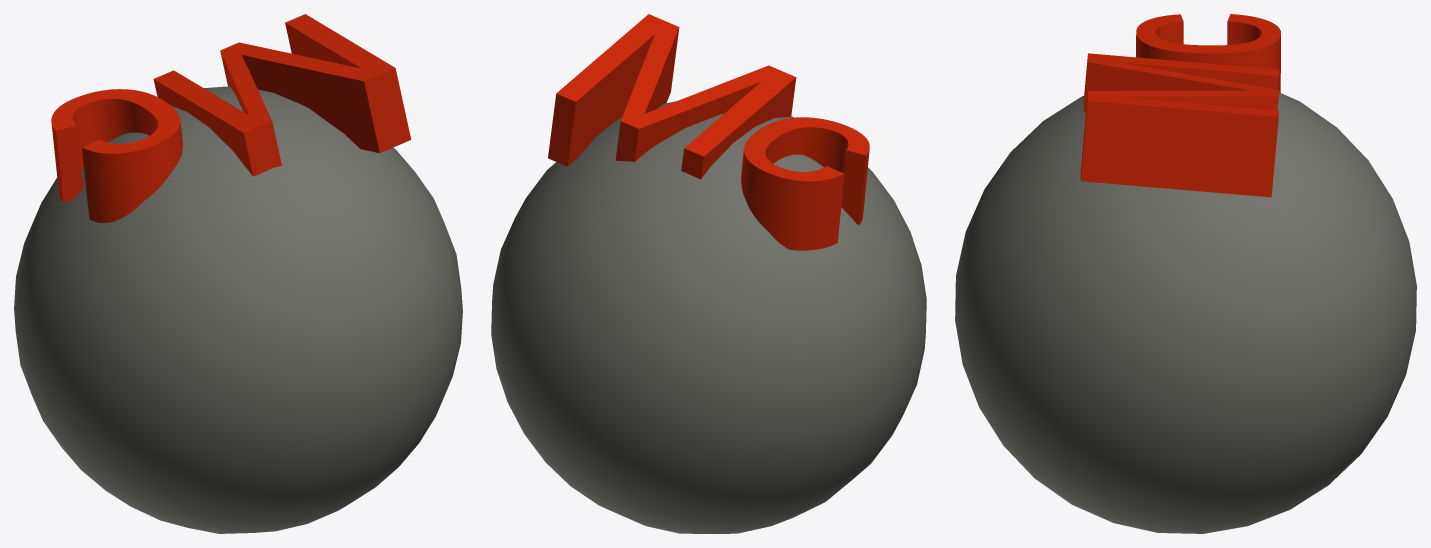
3 views of the same model, side by side, from view 1: azimuth 30°, elevation 25°; view 2: azimuth 150°, elevation 25°; view 3: azimuth 270°, elevation 25° (orthographic). The views are drawn at different scales.
Parts seen in each view (by area): view 1: Tc001, Object009, Object010; view 2: Tc001, Object009, Object010; view 3: Tc001, Object009, Object010.
Boxes of the visible parts, x1,y1,x2,y2 form: Tc001: (14,86,462,533); Object009: (153,14,411,176); Object010: (51,89,182,222); Tc001: (491,101,926,533); Object009: (548,14,796,179); Object010: (741,117,869,250); Tc001: (955,92,1416,533); Object009: (1080,53,1278,197); Object010: (1136,14,1280,92).
Size of the model in its own units: 38.62 by 43.01 by 38.63.
